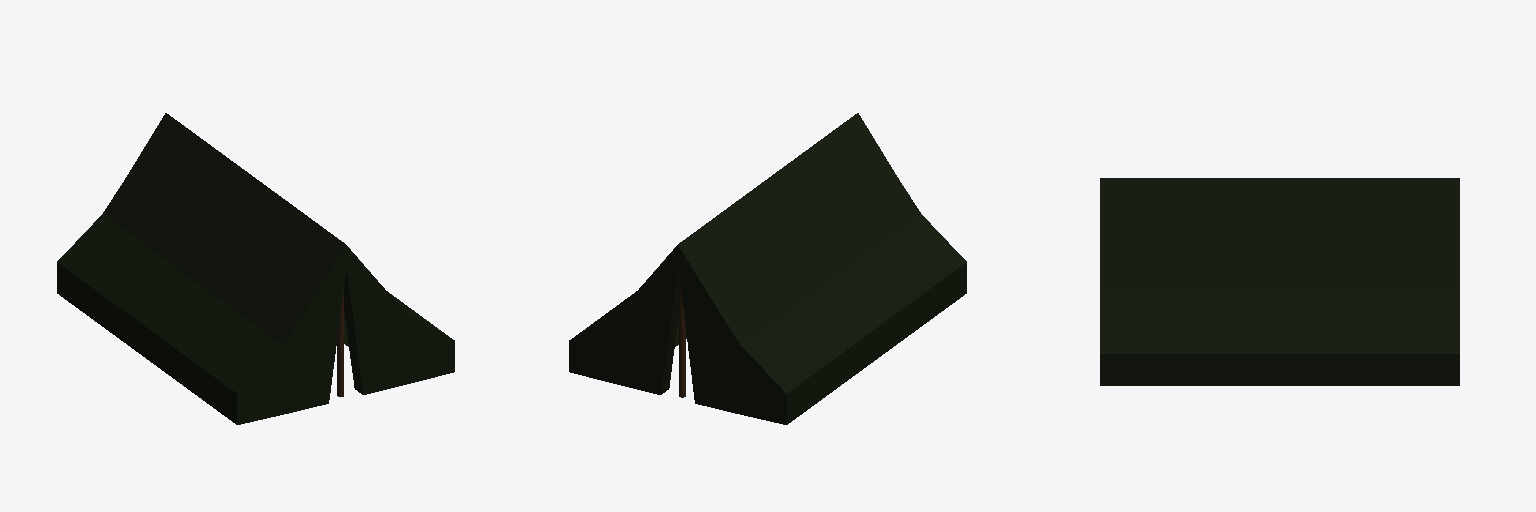
File: tent.obj
3 renders of one model, left to right at view 1: azimuth 30°, elevation 25°; view 2: azimuth 150°, elevation 25°; view 3: azimuth 270°, elevation 25°, orthographic.
Visible parts, largest first — view 1: tent; view 2: tent; view 3: tent.
Part boxes in pixels (x1,y1,x2,y2): tent: (57, 113, 454, 424); tent: (569, 113, 966, 424); tent: (1100, 178, 1459, 385).
Bounding box in the file's own units: 2.94 × 2 × 4.21.